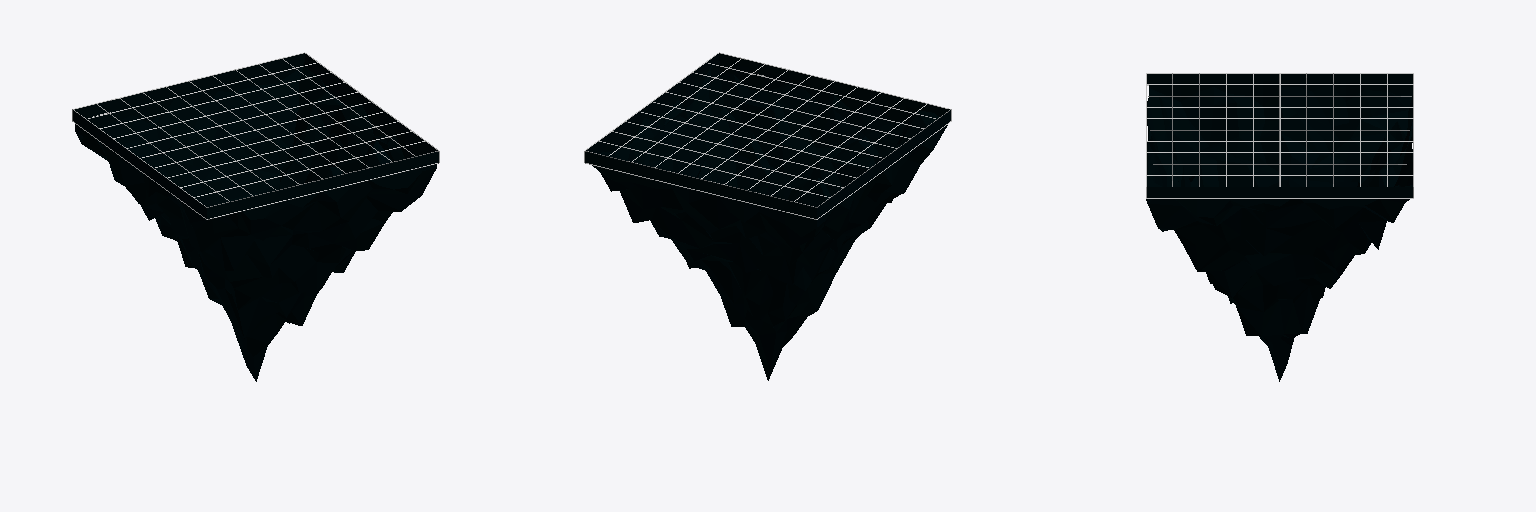
Rendered from BoardIsland.obj.
3 renders of one model, left to right at view 1: azimuth 30°, elevation 25°; view 2: azimuth 150°, elevation 25°; view 3: azimuth 270°, elevation 25°, orthographic.
Parts seen in each view (by area): view 1: Rock_Cube.006, Top_Cube.001, Grid_Cube.002; view 2: Rock_Cube.006, Top_Cube.001, Grid_Cube.002; view 3: Rock_Cube.006, Top_Cube.001, Grid_Cube.002.
Boxes of the visible parts, <box> form: Rock_Cube.006: <box>75,61,436,381</box>; Top_Cube.001: <box>73,53,438,218</box>; Grid_Cube.002: <box>72,52,439,219</box>; Rock_Cube.006: <box>592,61,947,380</box>; Top_Cube.001: <box>585,53,950,218</box>; Grid_Cube.002: <box>584,52,951,219</box>; Rock_Cube.006: <box>1146,81,1412,381</box>; Top_Cube.001: <box>1147,74,1412,197</box>; Grid_Cube.002: <box>1146,73,1413,198</box>.
Size of the model in its own units: 2.01 by 2.08 by 2.01.